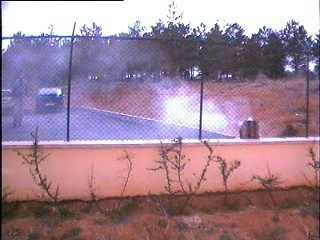smoke: (152, 70, 241, 137)
